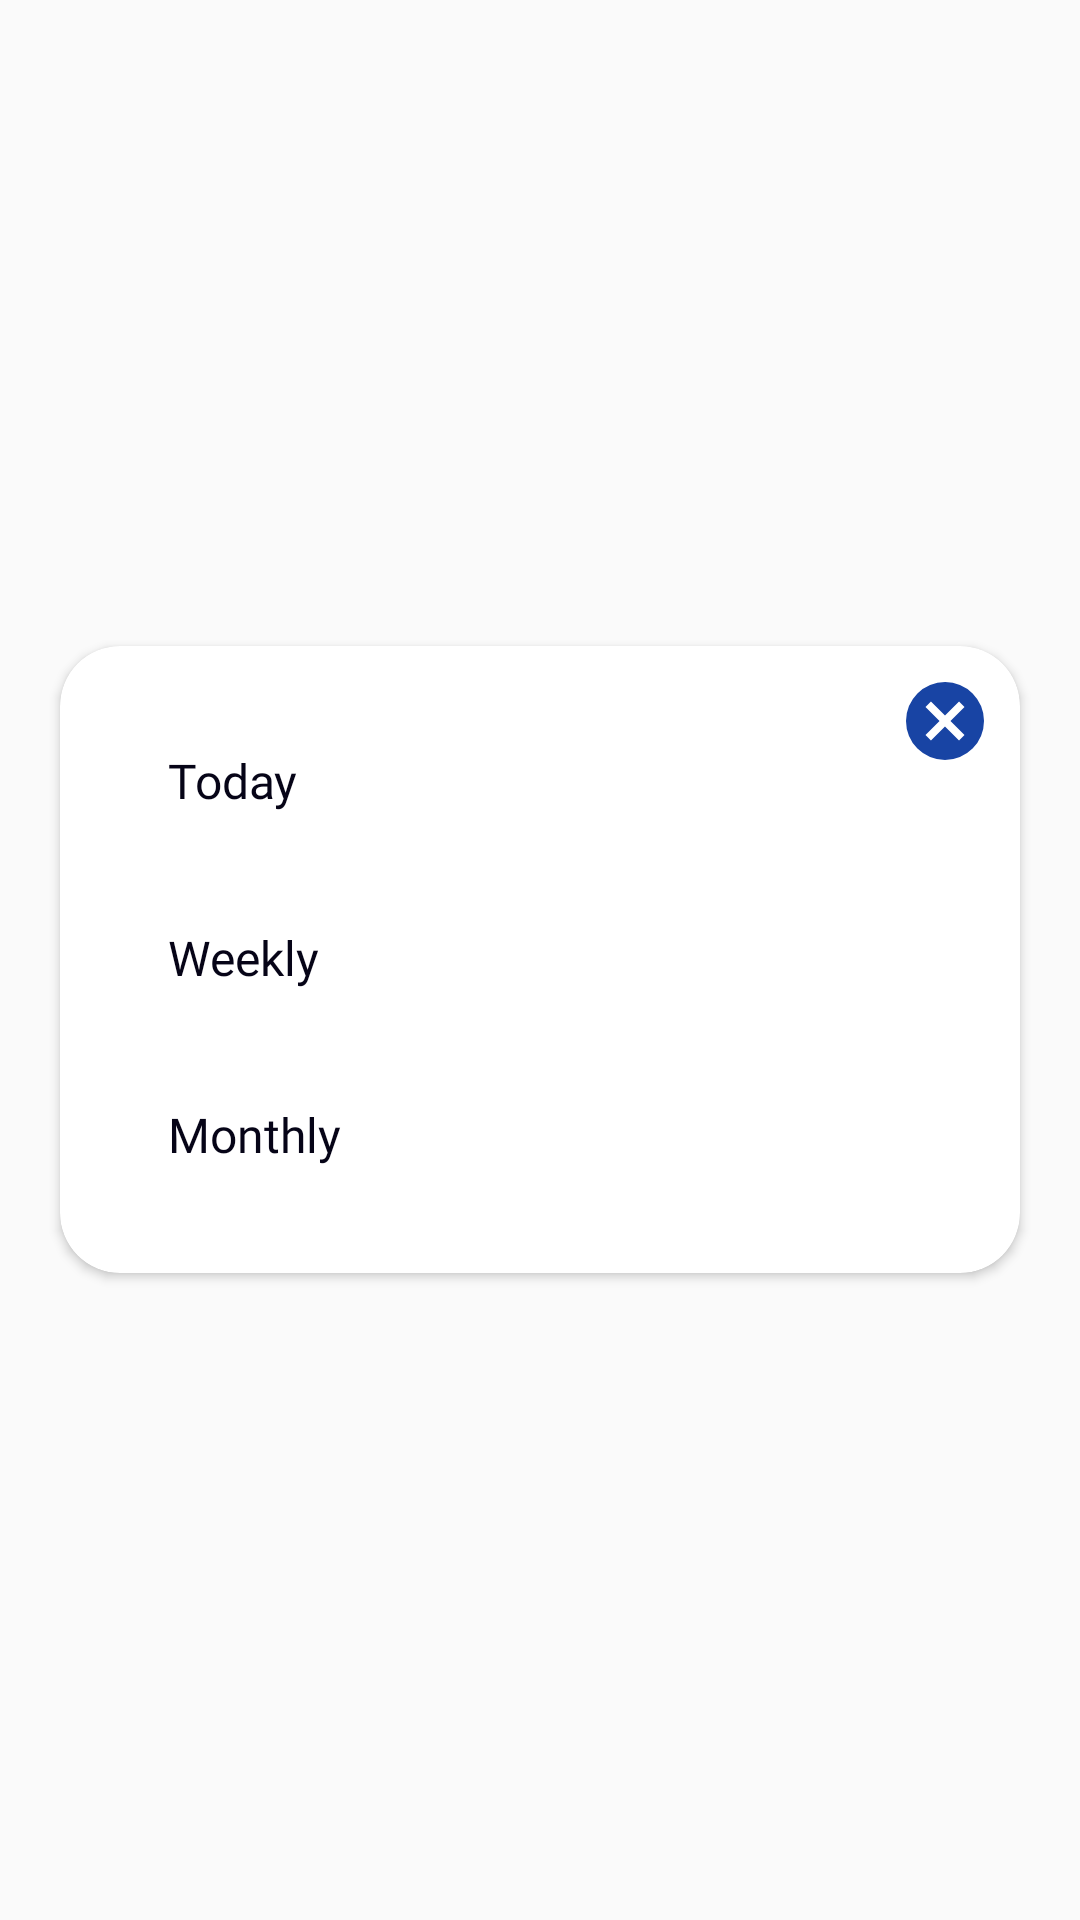

Icons on this 1080px×1920px Android screen, each with its box as (x1, y1, x2, y2):
close dialog: (906, 671, 1016, 760)
